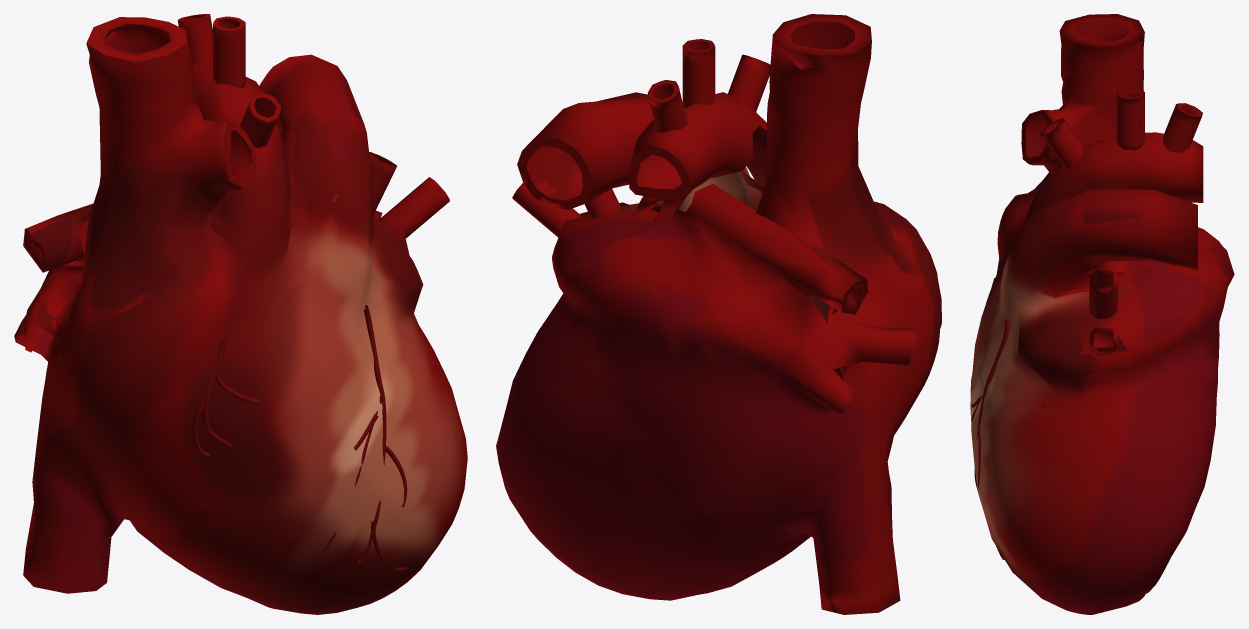
3 views of the same model, side by side, from view 1: azimuth 30°, elevation 25°; view 2: azimuth 150°, elevation 25°; view 3: azimuth 270°, elevation 25° (orthographic). The views are drawn at different scales.
Parts seen in each view (by area): view 1: Plane.002; view 2: Plane.002; view 3: Plane.002.
Part boxes in pixels (x1,y1,x2,y2): Plane.002: [14, 14, 467, 614]; Plane.002: [496, 14, 941, 614]; Plane.002: [970, 14, 1234, 614].
Bounding box in the file's own units: 3.4 × 4.77 × 2.28.
2 materials, 1 textured.
